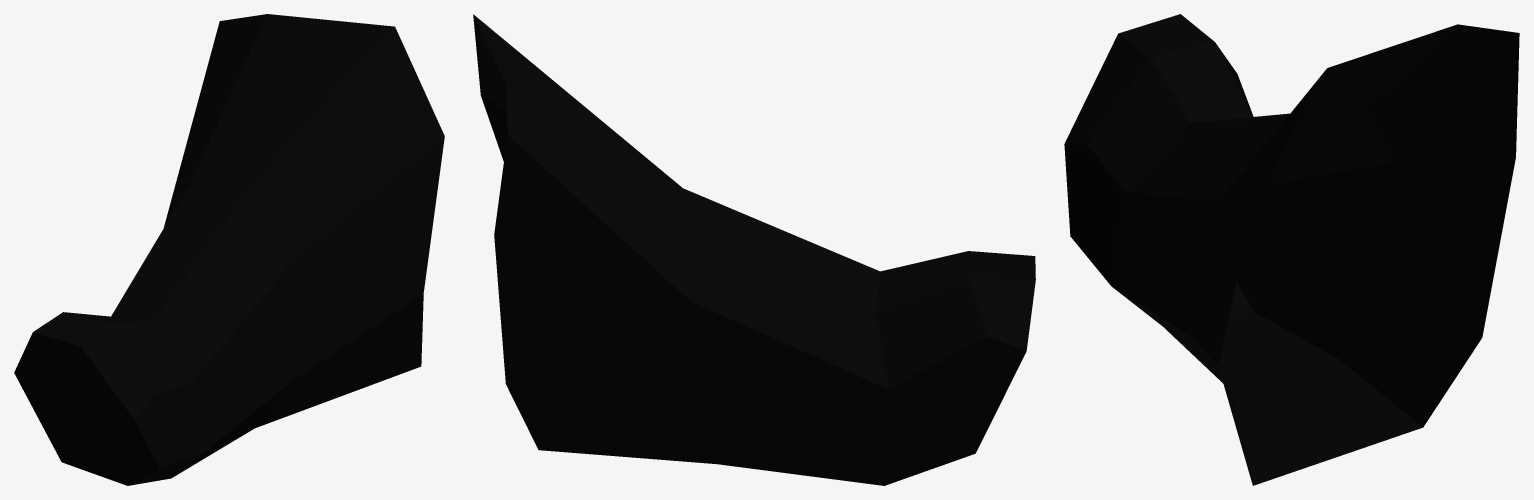
File: IzqDel.obj
3 renders of one model, left to right at view 1: azimuth 30°, elevation 25°; view 2: azimuth 150°, elevation 25°; view 3: azimuth 270°, elevation 25°, orthographic. The views are drawn at different scales.
Visible parts, largest first — view 1: polySurface14 polySurface11 panda; view 2: polySurface14 polySurface11 panda; view 3: polySurface14 polySurface11 panda.
Part boxes in pixels (bbox=[...]): polySurface14 polySurface11 panda: bbox=[14, 14, 444, 485]; polySurface14 polySurface11 panda: bbox=[473, 14, 1035, 485]; polySurface14 polySurface11 panda: bbox=[1064, 14, 1519, 485].
Bounding box in the file's own units: 0.7027 × 0.5134 × 0.4734.
1 material, 1 textured.
